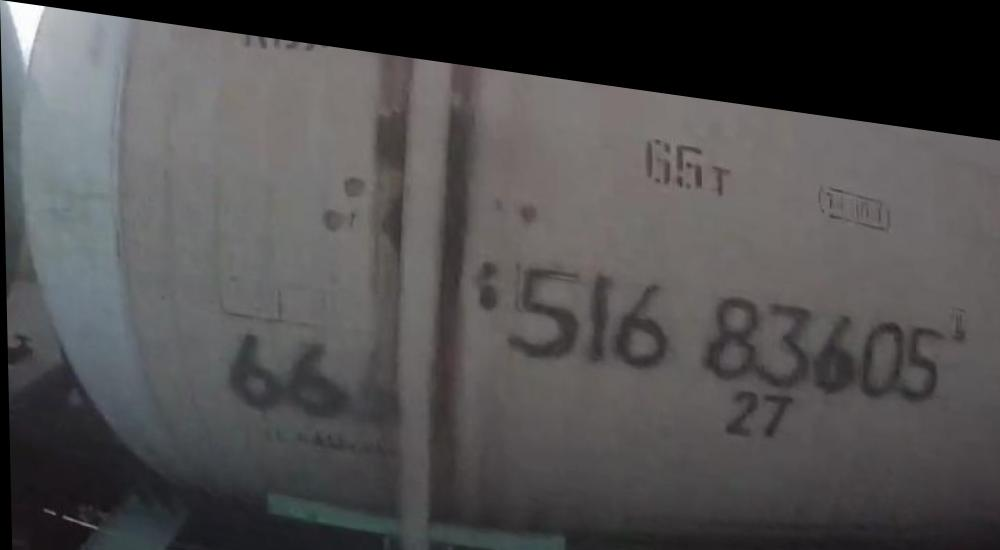Wagon-number: (503, 240, 946, 392)
